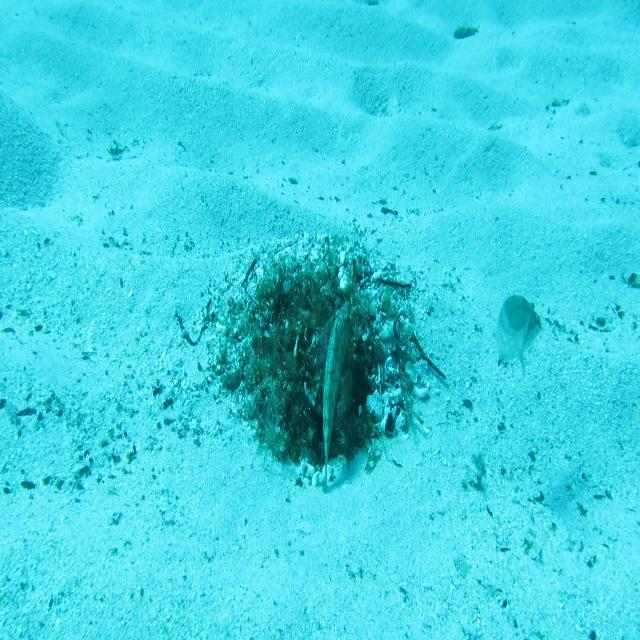LF: (318, 298, 356, 496)
core_nest: (286, 286, 336, 321)
female: (494, 291, 543, 381)
nest: (207, 230, 441, 502)
vegetation: (454, 27, 480, 47)
